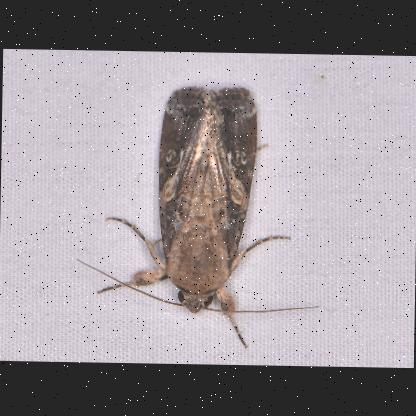Fall Armyworm Moth: (72, 81, 324, 352)
